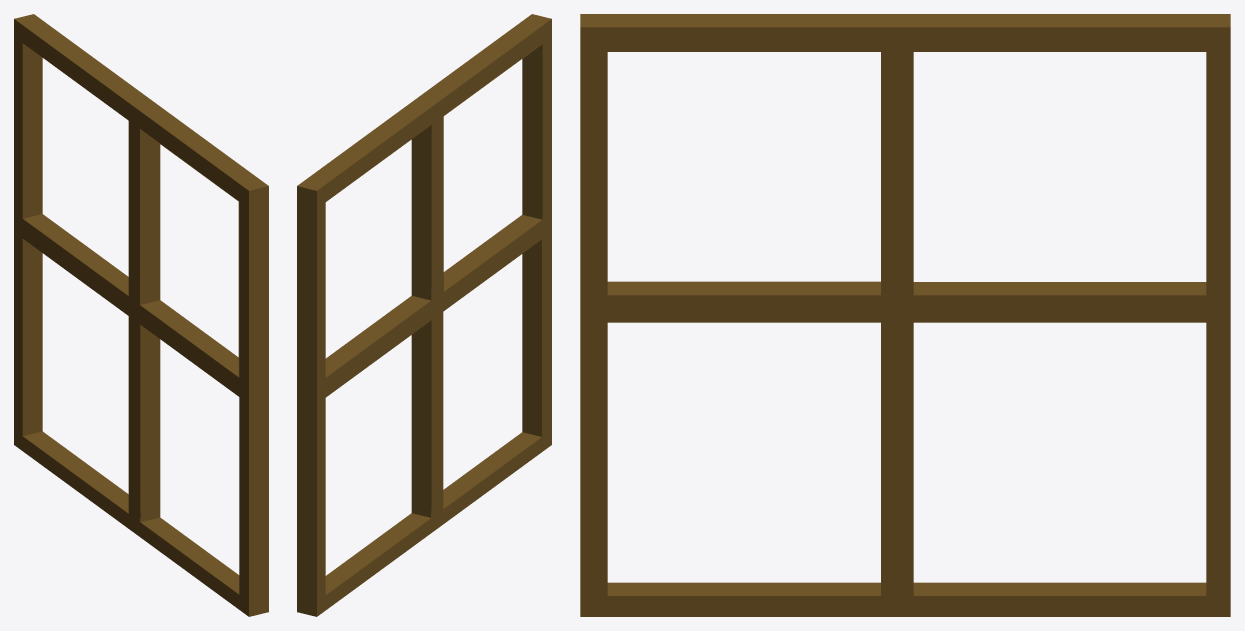
The model's file is WindowFrame.fbx.
3 views of the same model, side by side, from view 1: azimuth 30°, elevation 25°; view 2: azimuth 150°, elevation 25°; view 3: azimuth 270°, elevation 25° (orthographic). The views are drawn at different scales.
Visible parts, largest first — view 1: Window_Frame; view 2: Window_Frame; view 3: Window_Frame.
Part boxes in pixels (x1,y1,x2,y2): Window_Frame: (14,14,268,616); Window_Frame: (297,14,551,616); Window_Frame: (580,14,1230,616).
Bounding box in the file's own units: 0.25 × 5 × 5.
